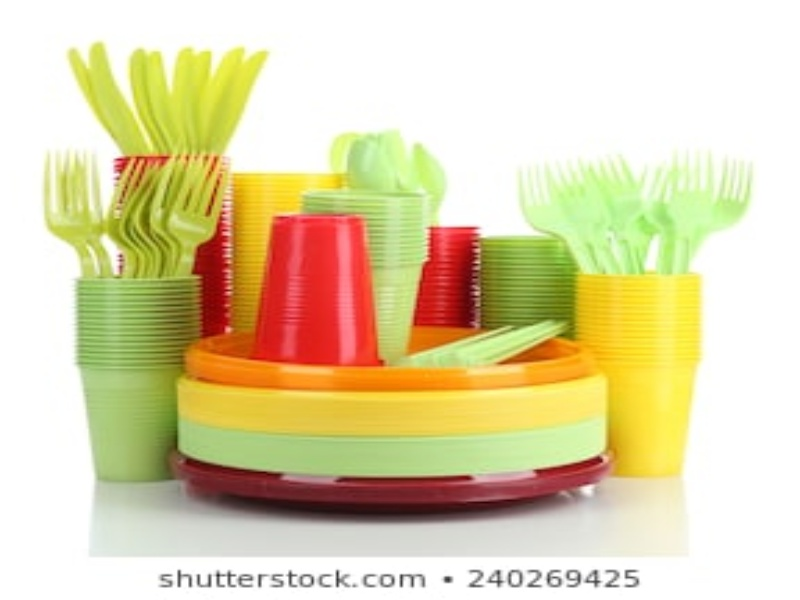plastic-cup: (73, 276, 197, 484), (575, 271, 699, 479), (302, 191, 429, 361), (249, 215, 391, 366), (232, 173, 341, 338), (479, 237, 580, 329), (422, 227, 481, 325)
plastic-plate: (168, 452, 619, 516), (176, 416, 614, 477), (170, 378, 605, 438), (188, 327, 605, 383)
plastic-silverware: (516, 166, 597, 273), (67, 44, 146, 152), (552, 160, 621, 269), (694, 157, 757, 260), (87, 42, 144, 153), (209, 51, 271, 151), (203, 48, 248, 154), (131, 50, 175, 153), (670, 150, 707, 264), (148, 50, 184, 158), (414, 141, 453, 226), (353, 130, 404, 193), (382, 134, 422, 193), (331, 132, 361, 192)
